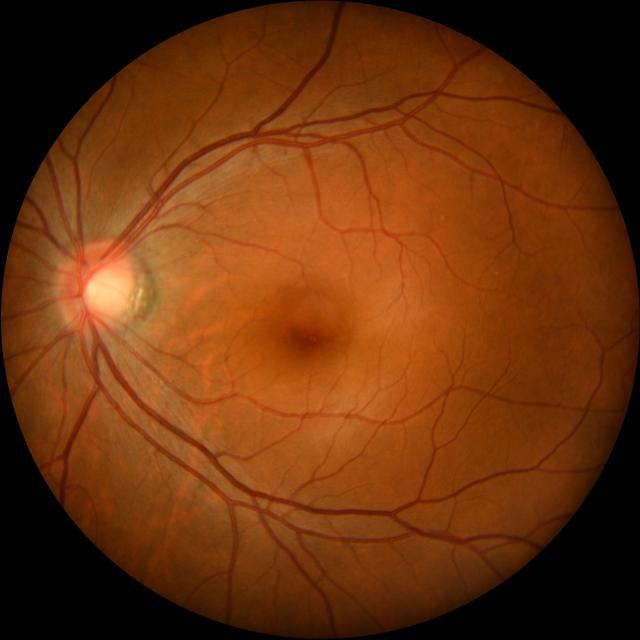OC: (83, 264, 125, 314)
OD: (57, 241, 137, 330)
